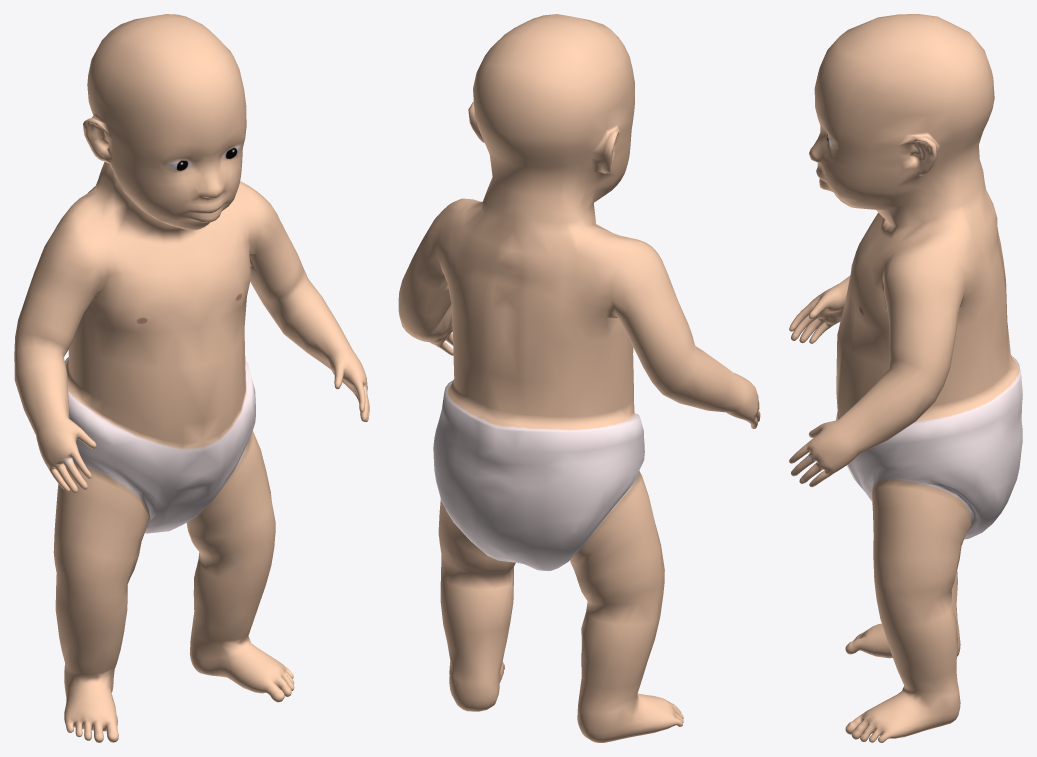
The model's file is BabyOBJ.obj.
The picture shows the model from 3 angles, left to right: view 1: azimuth 30°, elevation 25°; view 2: azimuth 150°, elevation 25°; view 3: azimuth 270°, elevation 25°; orthographic projection. The views are drawn at different scales.
Visible parts, largest first — view 1: baby.003; view 2: baby.003; view 3: baby.003.
Boxes of the visible parts, <box> form: baby.003: <box>14,14,369,742</box>; baby.003: <box>398,14,760,742</box>; baby.003: <box>789,14,1022,742</box>.
Size of the model in its own units: 2.25 by 4.56 by 1.44.
